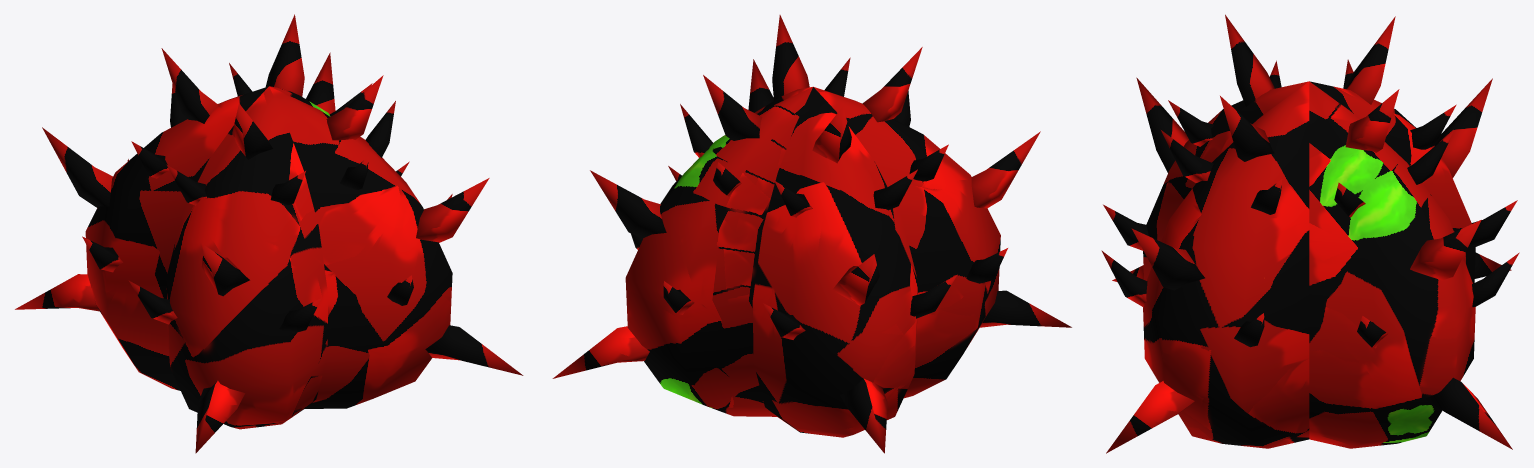
File: Cactus_1.fbx
3 views of the same model, side by side, from view 1: azimuth 30°, elevation 25°; view 2: azimuth 150°, elevation 25°; view 3: azimuth 270°, elevation 25° (orthographic). The views are drawn at different scales.
Parts seen in each view (by area): view 1: Sphere.014; view 2: Sphere.014; view 3: Sphere.014.
Boxes of the visible parts, x1,y1,x2,y2 form: Sphere.014: (15,14,523,453); Sphere.014: (552,15,1071,453); Sphere.014: (1101,14,1519,453).
Size of the model in its own units: 217 by 211 by 217.
